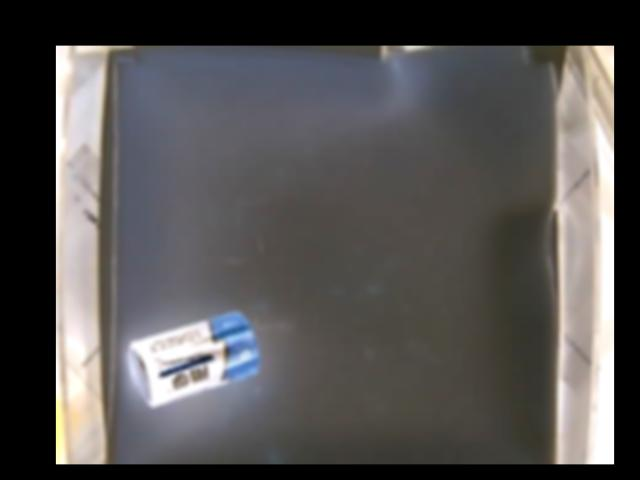Battery: (126, 309, 259, 405)
